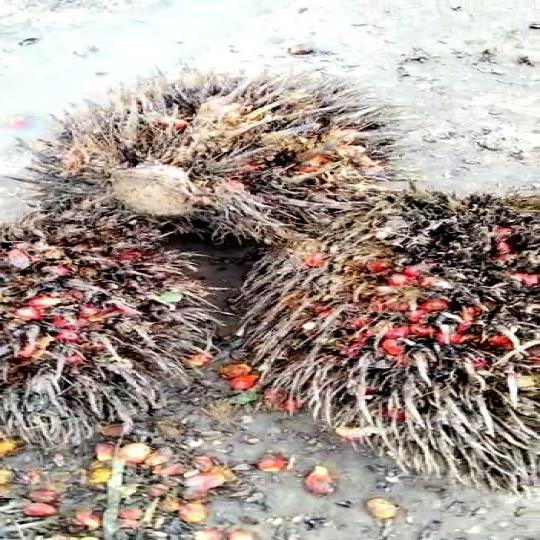terlalu masak: (264, 174, 540, 485), (0, 218, 258, 440), (57, 84, 422, 237)
